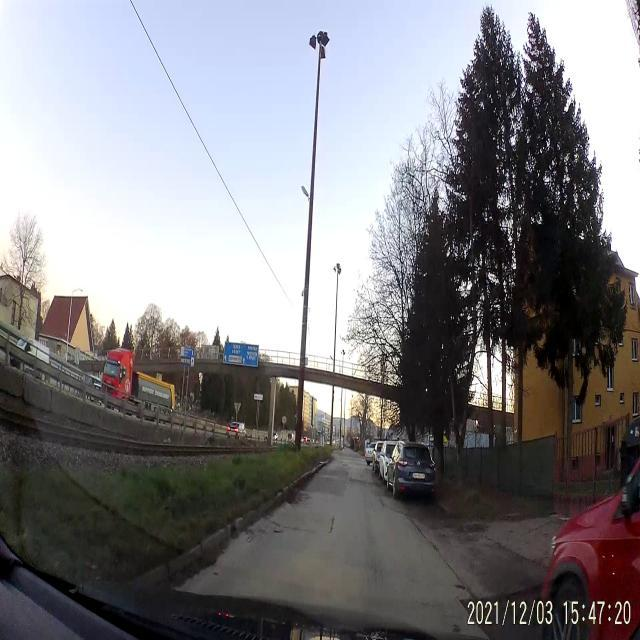Pothole: (290, 492, 311, 507), (272, 526, 285, 536)
